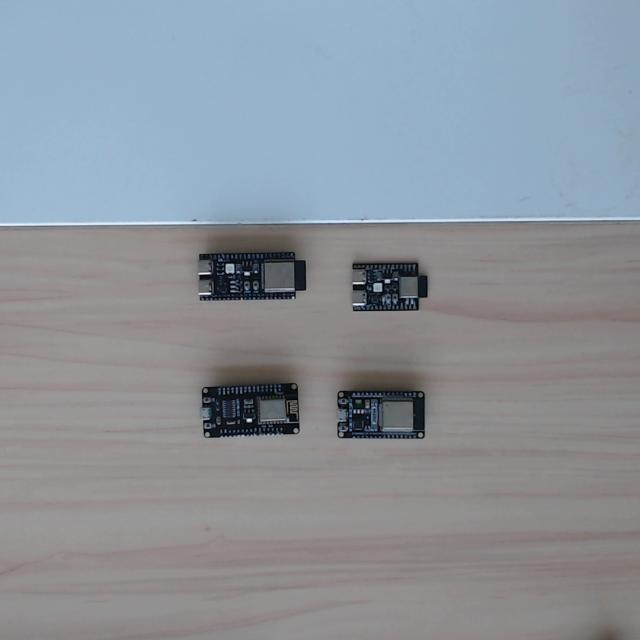ESP32-DevKit: (335, 389, 427, 443)
ESP32C3-DevKit: (349, 259, 430, 315)
ESP32S3-Devkit: (195, 251, 306, 304)
ESP8266-NodeMCU: (198, 381, 302, 441)
